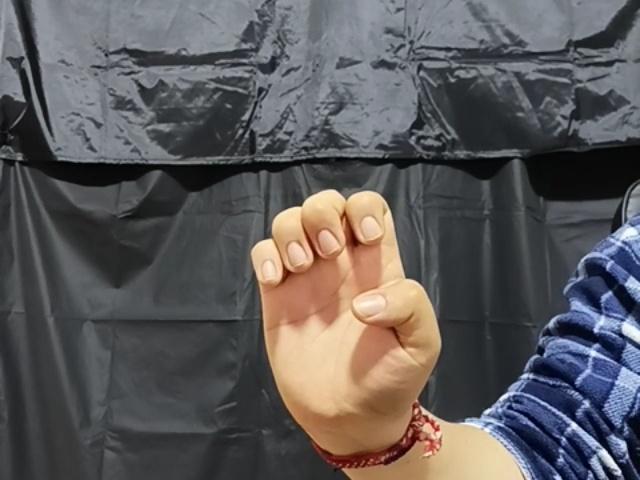E: (247, 180, 443, 431)
